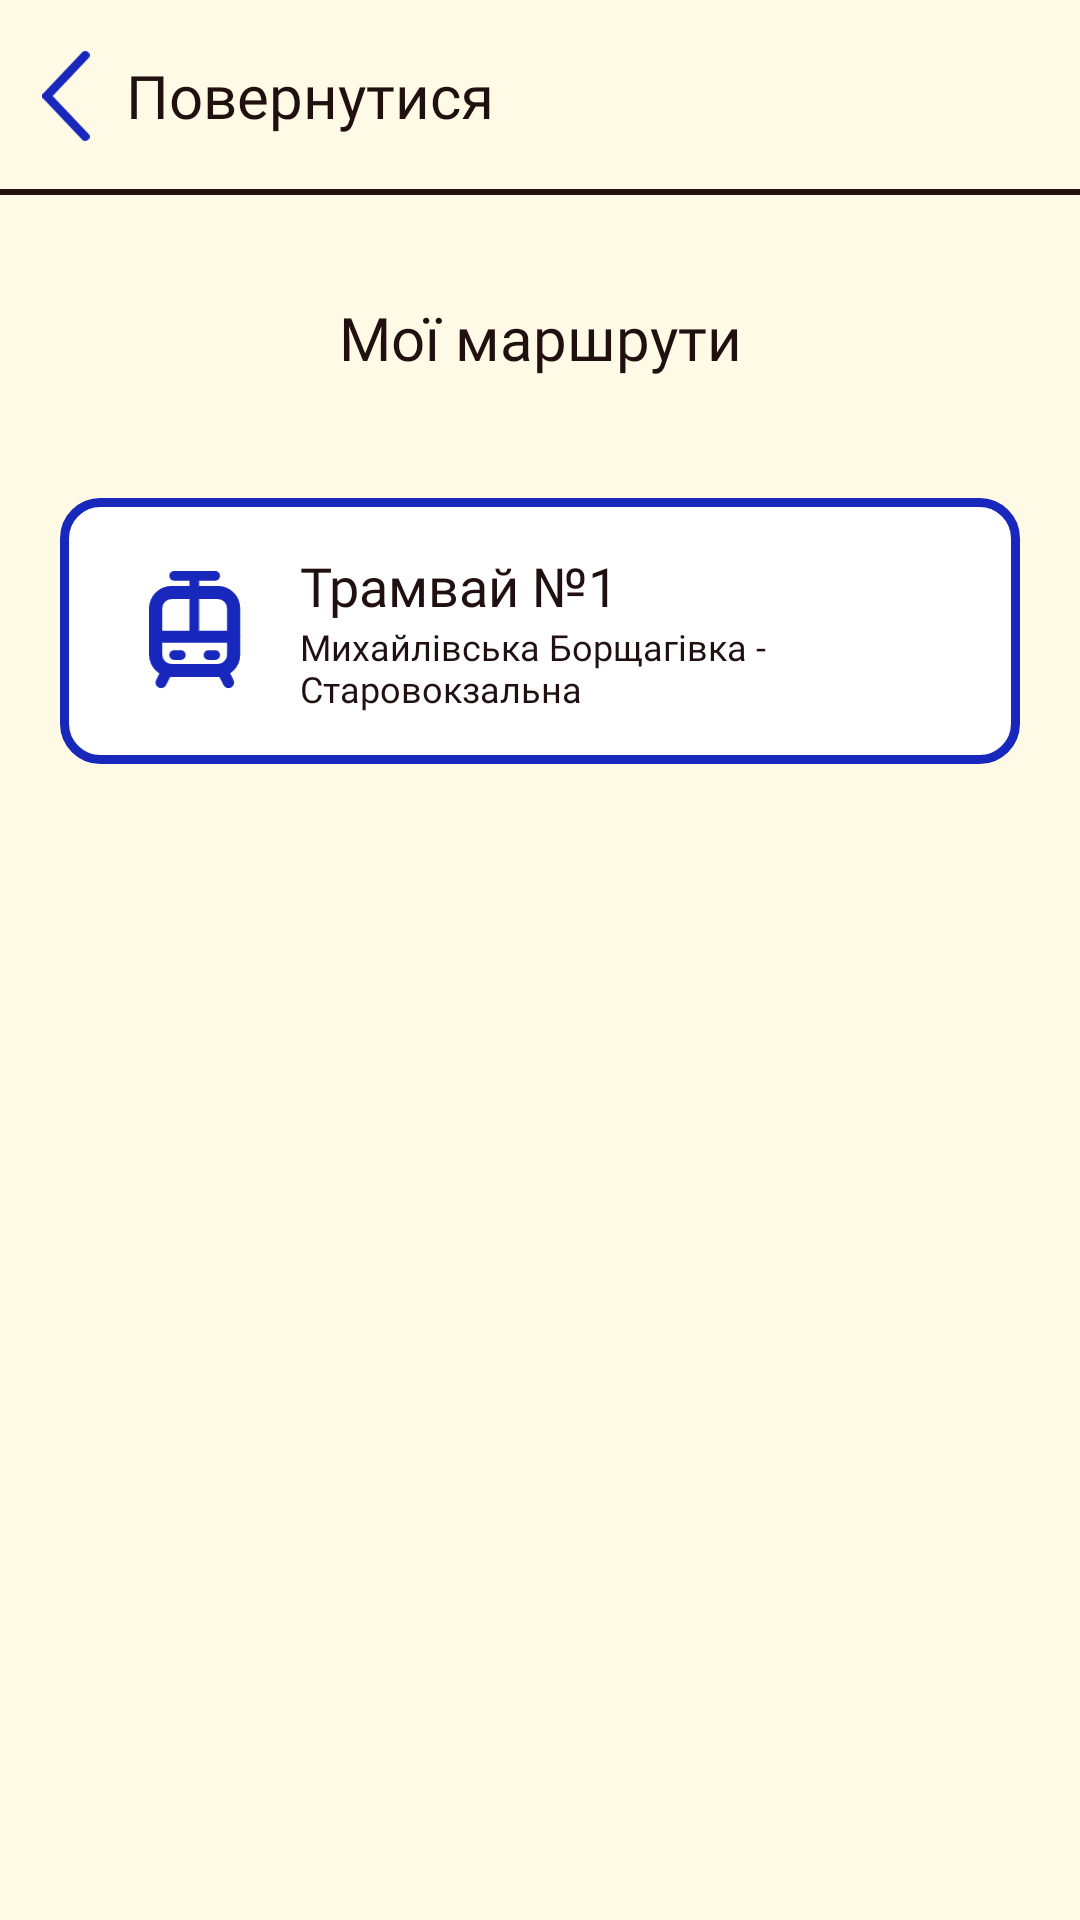

Icons on this 1080w x 1920h Android screen, each with the point to tap as [x,y]:
arrow: [66,96]
tram: [195,630]
